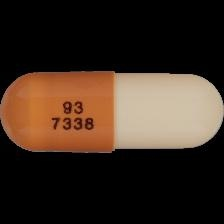66116-435: (0, 0, 224, 224)
